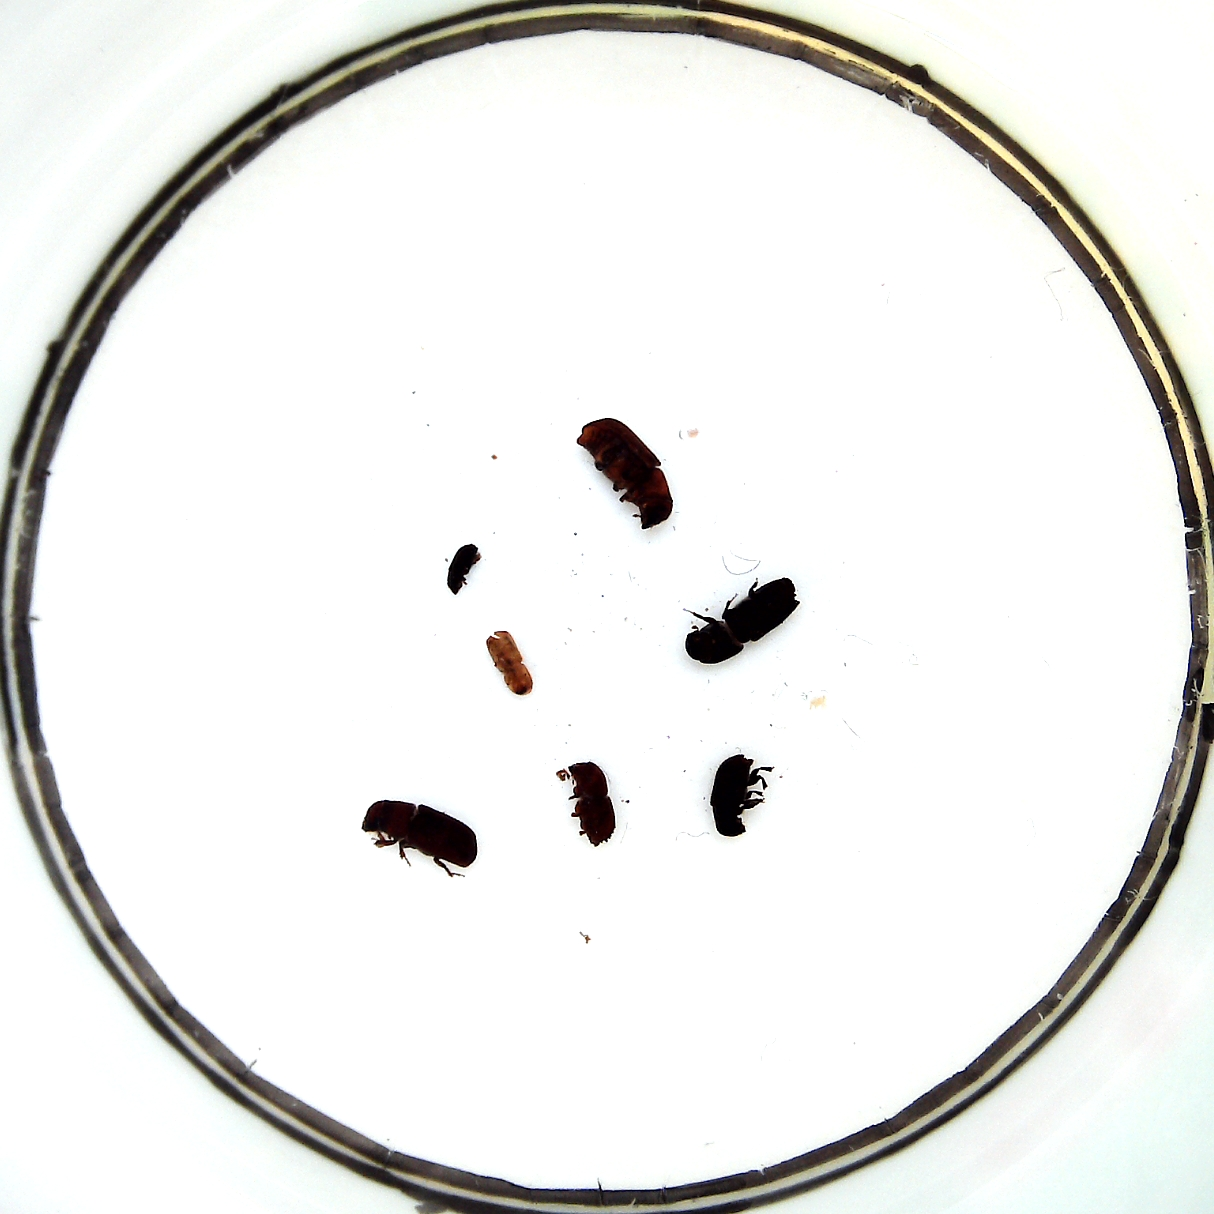Boerner: (684, 577, 798, 664)
Leconte: (577, 418, 671, 530), (362, 800, 477, 870)
acuminatus: (446, 544, 482, 595)
armandi: (710, 753, 754, 838)
coleoptera: (486, 629, 533, 695)
linnaeus: (567, 760, 616, 847)
